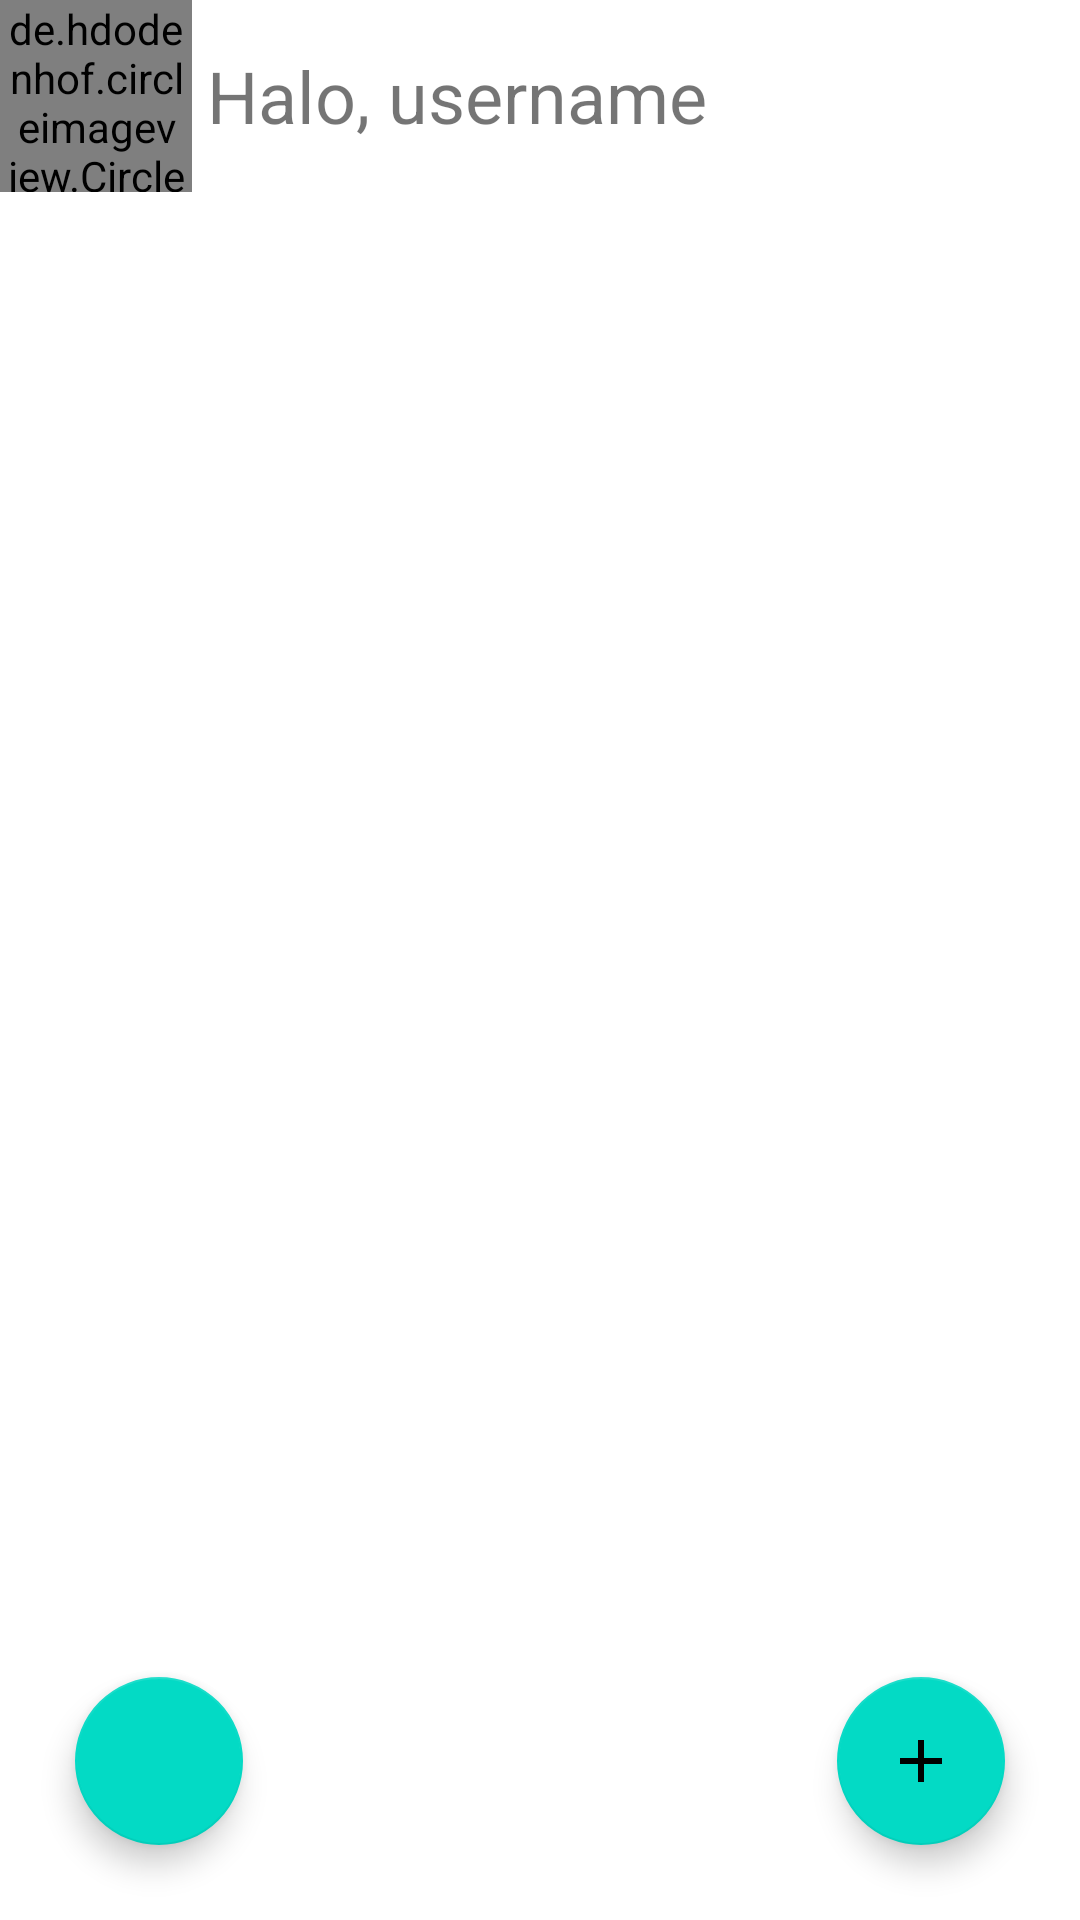

Icons on this 1080×1920 Android screen, each with the point to tap as (x,y):
add: (921,1761)
